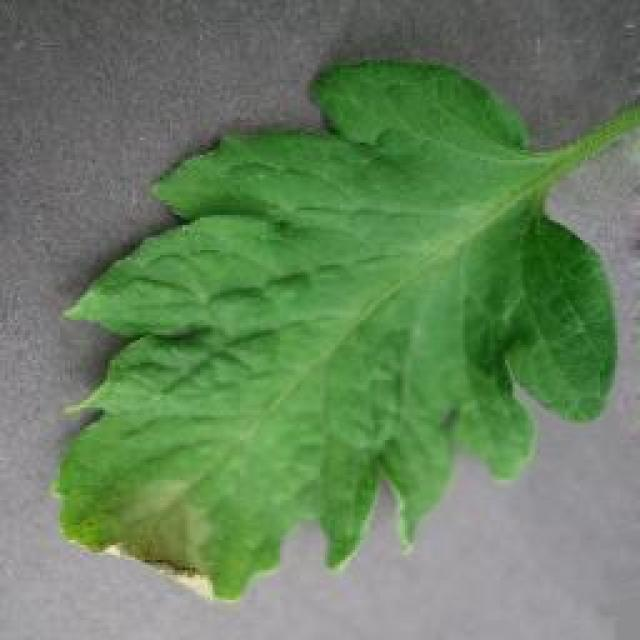Tomato___Late_blight: (55, 62, 638, 600)
